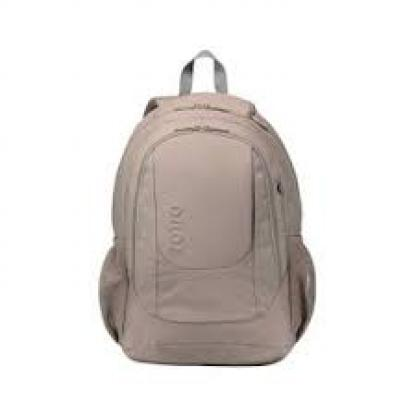morral: (81, 46, 344, 370)
